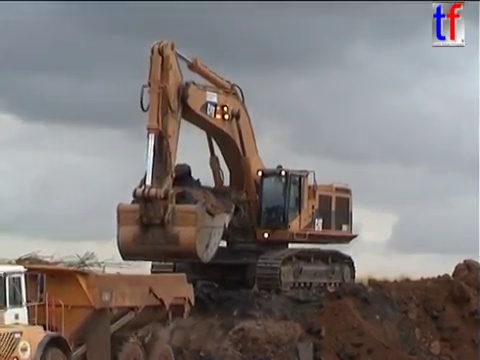excavator: (113, 37, 361, 304)
truck: (1, 258, 197, 360)
